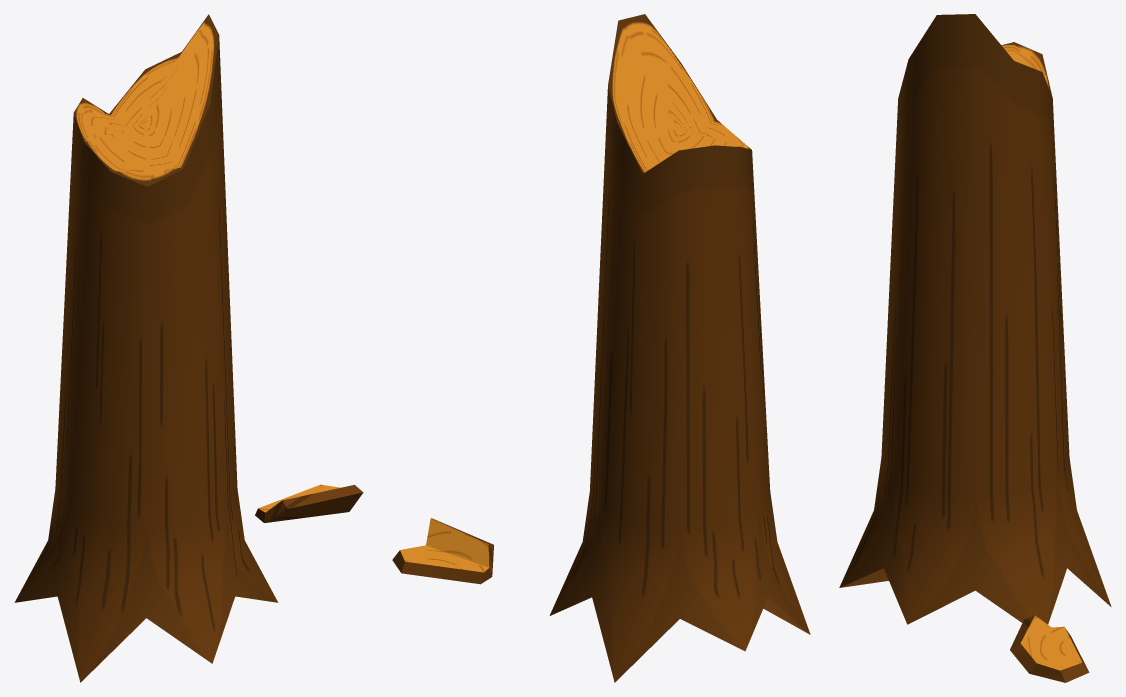
File: TreeObstacle.FBX
The picture shows the model from 3 angles, left to right: view 1: azimuth 30°, elevation 25°; view 2: azimuth 150°, elevation 25°; view 3: azimuth 270°, elevation 25°; orthographic projection. The views are drawn at different scales.
Parts seen in each view (by area): view 1: TreeObstacle, Splinter; view 2: TreeObstacle, Splinter; view 3: TreeObstacle, Splinter.
Part boxes in pixels (x1,y1,x2,y2): TreeObstacle: (14, 14, 278, 682); Splinter: (255, 484, 363, 522); TreeObstacle: (549, 14, 810, 682); Splinter: (392, 518, 493, 584); TreeObstacle: (839, 14, 1111, 624); Splinter: (1010, 615, 1089, 682).
Size of the model in its own units: 162 by 271 by 107.
Materials: 1 (1 with a texture image).
